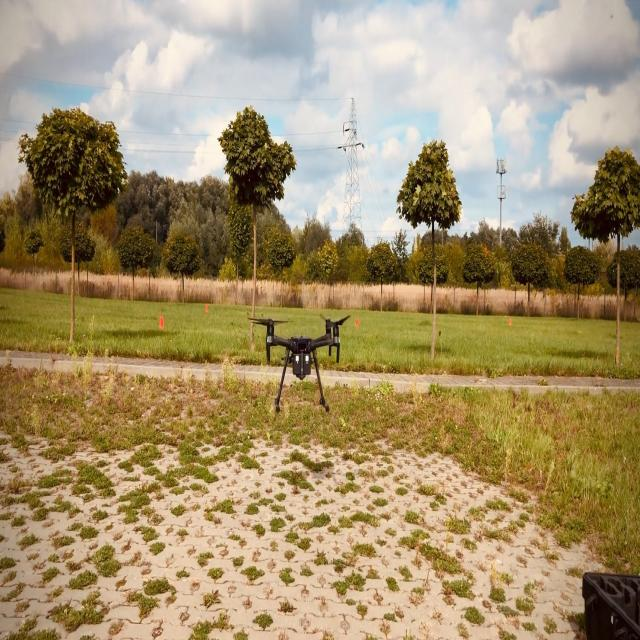drone: (247, 313, 351, 414)
